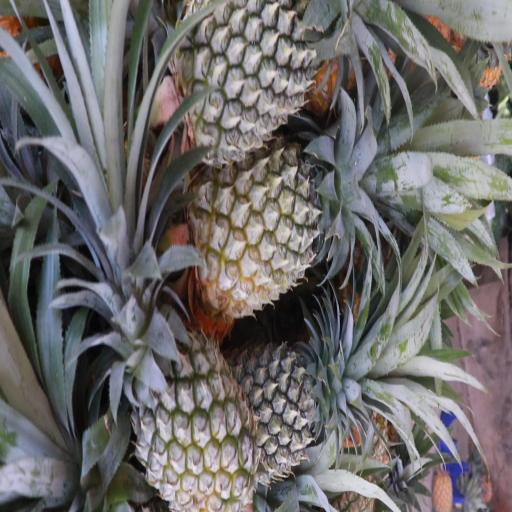------------------------------: (190, 158, 372, 316), (128, 329, 254, 512)
